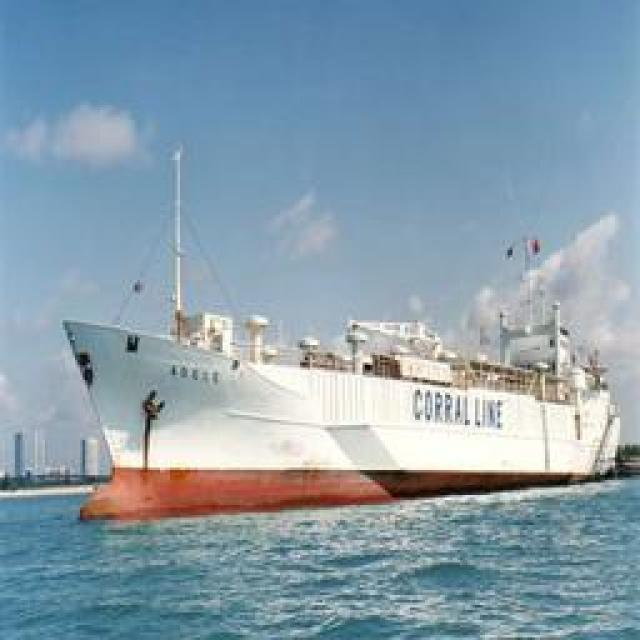CIV_Ship: (72, 170, 616, 515)
